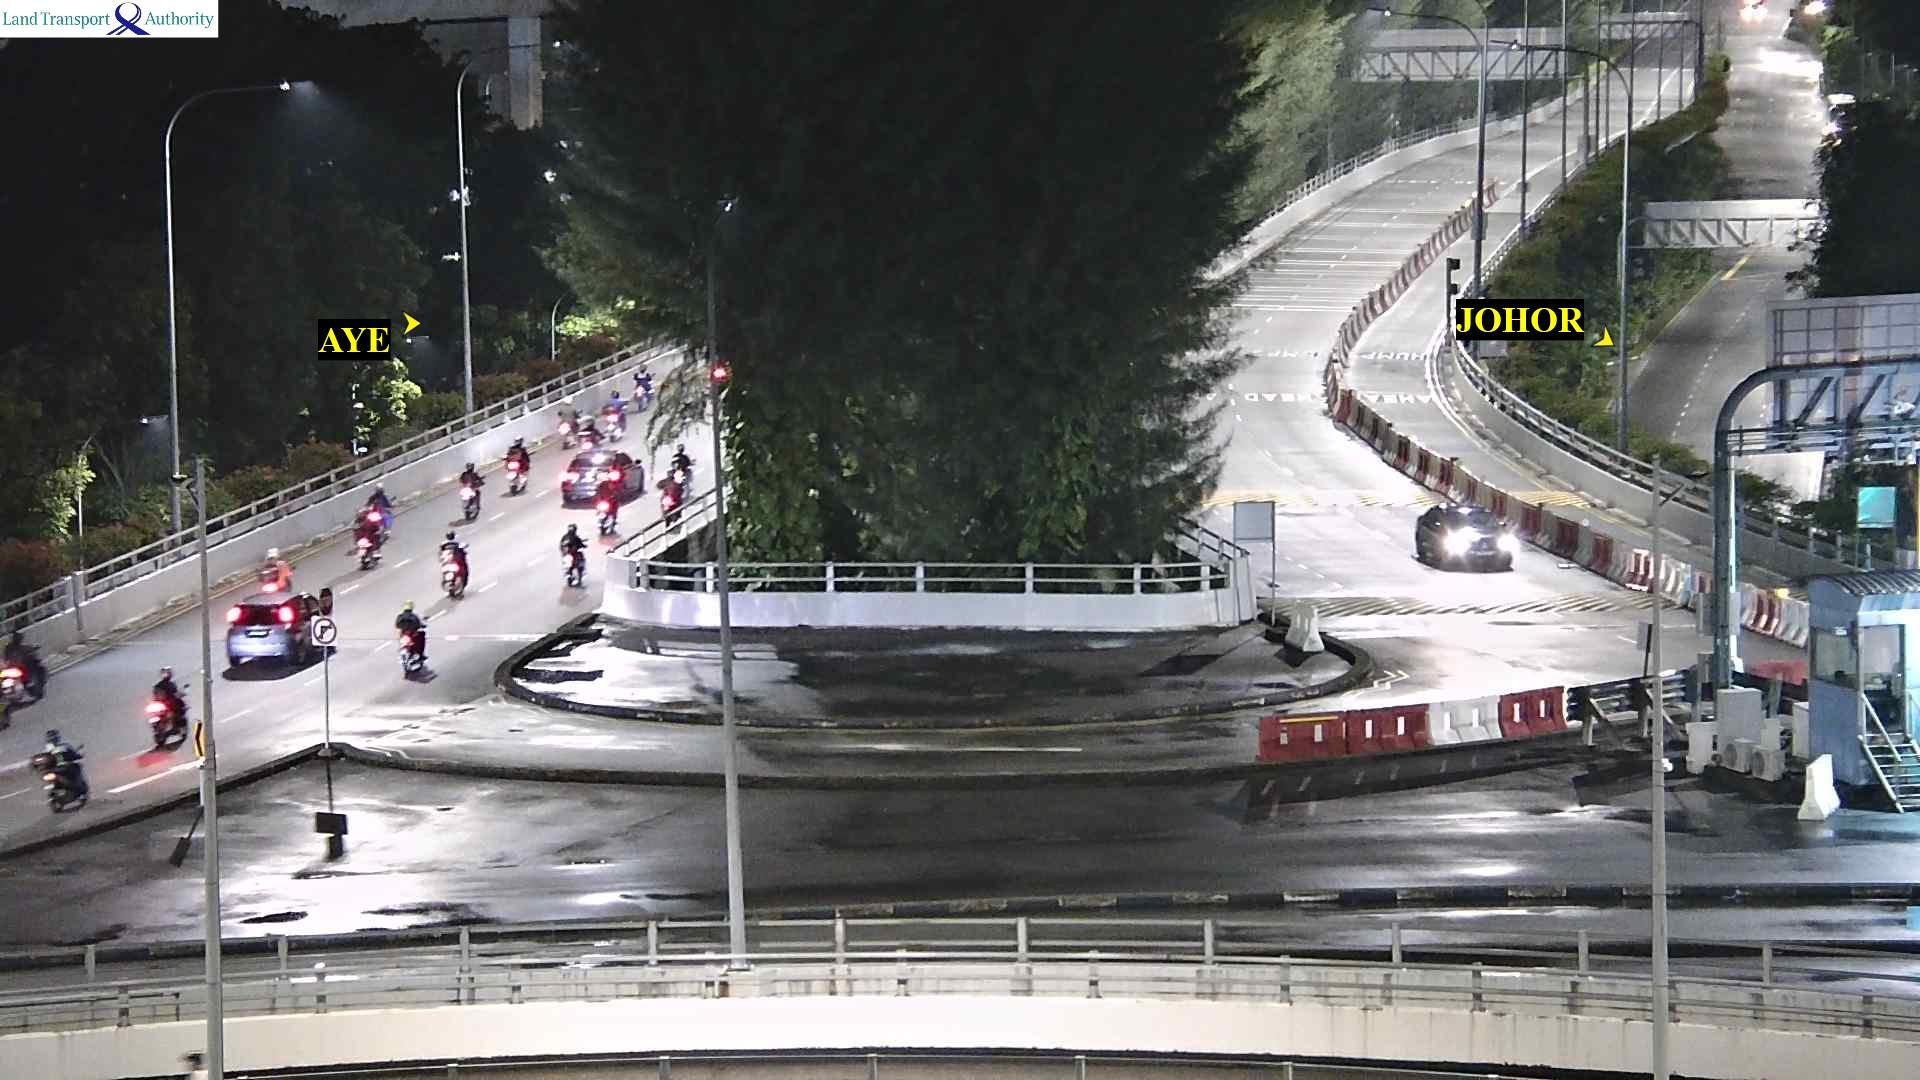vehicle-secondlink-johor: (1418, 496, 1514, 578)
vehicle-secondlink-singapore: (229, 589, 328, 667), (0, 615, 49, 717), (564, 450, 647, 504), (146, 661, 190, 749), (44, 728, 87, 812), (394, 605, 435, 682), (431, 530, 472, 601), (558, 525, 588, 591), (662, 471, 688, 530), (502, 436, 524, 508), (368, 484, 398, 531), (261, 546, 293, 585), (603, 392, 626, 440), (671, 443, 696, 488), (597, 484, 617, 537), (636, 361, 657, 407), (559, 397, 576, 446), (462, 469, 476, 510), (580, 415, 596, 452)
